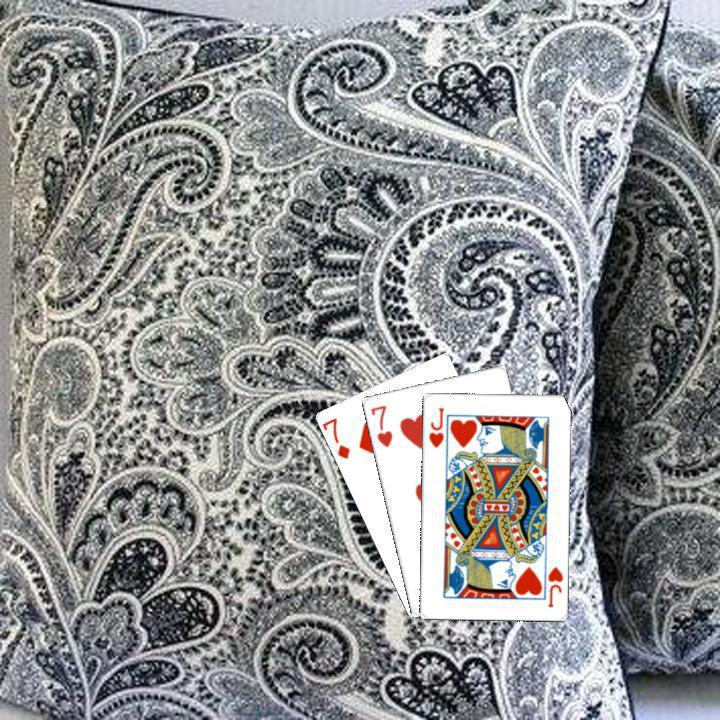7: (319, 413, 352, 461), (366, 400, 394, 449)
J: (424, 403, 445, 449), (543, 562, 564, 608)
